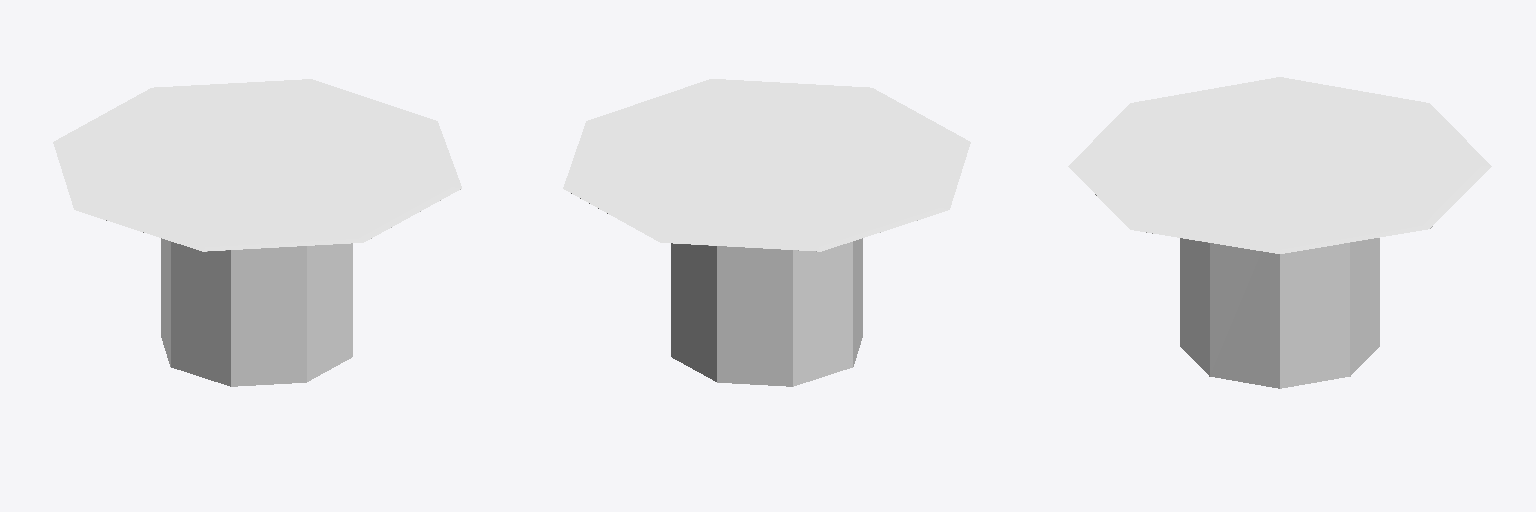
File: Bolt.obj
3 views of the same model, side by side, from view 1: azimuth 30°, elevation 25°; view 2: azimuth 150°, elevation 25°; view 3: azimuth 270°, elevation 25° (orthographic).
Visible parts, largest first — view 1: Bolt; view 2: Bolt; view 3: Bolt.
Part boxes in pixels (bbox=[...]): Bolt: bbox=[53, 79, 461, 386]; Bolt: bbox=[563, 79, 970, 386]; Bolt: bbox=[1068, 77, 1491, 388].
Size of the model in its own units: 2.11 by 1 by 2.13.